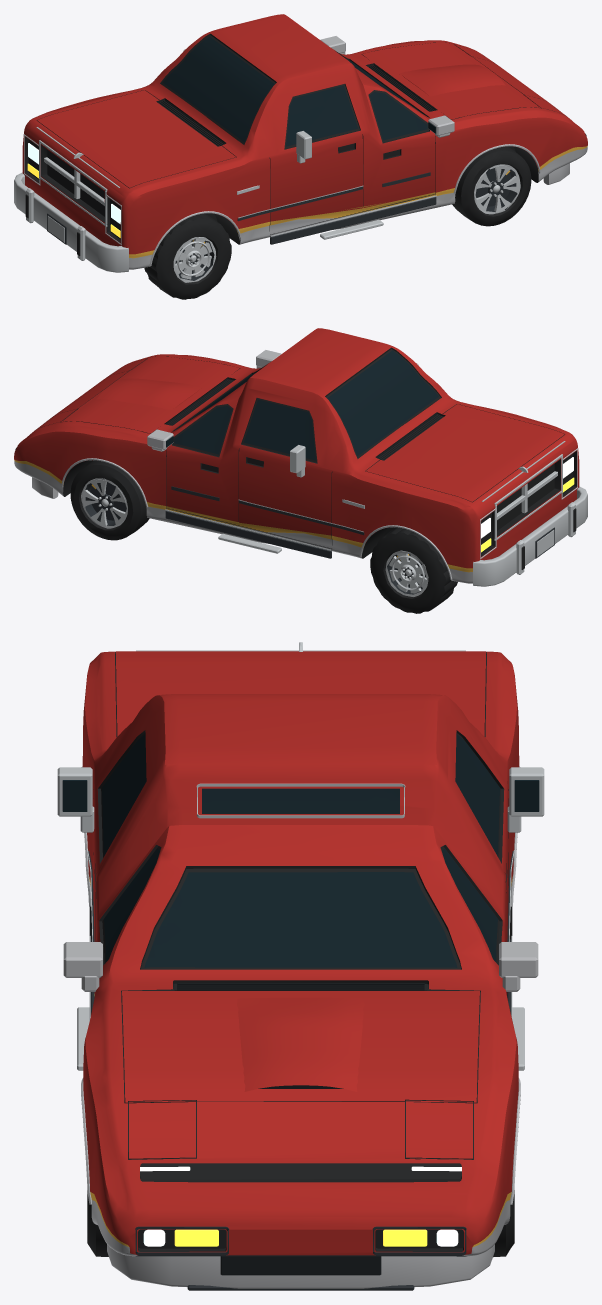
File: ramjet_blueprint_LOD2.glb
3 renders of one model, top to bottom at view 1: azimuth 30°, elevation 25°; view 2: azimuth 150°, elevation 25°; view 3: azimuth 270°, elevation 25°, orthographic. The views are drawn at different scales.
Visible parts, largest first — view 1: Body_RamjetShell.001, Detail_BrushedMetal, Glass_TruckWindshield.001, Wheel_Truck_Tire_-1.001, Wheel_Coupe_Tire_-1.001, Glass_TruckSide_R.001, Detail_Gunmetal, Detail_Paint, Detail_Secondary, Glass_CoupeSide_R.001, Detail_Grille, Wheel_Coupe_Hub_-1.001 (+3 smaller); view 2: Body_RamjetShell.001, Detail_BrushedMetal, Glass_TruckWindshield.001, Wheel_Truck_Tire_+1.001, Wheel_Coupe_Tire_+1.001, Glass_TruckSide_L.001, Detail_Gunmetal, Detail_Paint, Detail_Secondary, Glass_CoupeSide_L.001, Detail_Grille, Wheel_Coupe_Hub_+1.001 (+3 smaller); view 3: Body_RamjetShell.001, Glass_CoupeWindshield.001, Detail_Secondary, Detail_Paint, Detail_BrushedMetal, Detail_Grille, Glass_CabRear.001, Detail_Gunmetal, Glass_TruckSide_L.001, Glass_TruckSide_R.001, Glass_CoupeSide_R.001, Glass_CoupeSide_L.001 (+3 smaller).
Part boxes in pixels (x1,y1,x2,y2): Body_RamjetShell.001: (22,14,587,269); Detail_BrushedMetal: (14,49,436,272); Glass_TruckWindshield.001: (163,36,274,142); Wheel_Truck_Tire_-1.001: (144,213,231,299); Wheel_Coupe_Tire_-1.001: (452,146,531,226); Glass_TruckSide_R.001: (286,85,357,146); Detail_Gunmetal: (47,133,586,244); Detail_Paint: (399,64,505,96); Detail_Secondary: (149,36,569,265); Glass_CoupeSide_R.001: (369,92,427,140); Detail_Grille: (159,65,435,146); Wheel_Coupe_Hub_-1.001: (475,168,511,206); Body_RamjetShell.001: (14,328,579,583); Detail_BrushedMetal: (165,363,587,586); Glass_TruckWindshield.001: (327,350,438,456); Wheel_Truck_Tire_+1.001: (370,527,457,613); Wheel_Coupe_Tire_+1.001: (70,460,149,540); Glass_TruckSide_L.001: (244,399,315,460); Detail_Gunmetal: (15,447,554,558); Detail_Paint: (96,378,202,409); Detail_Secondary: (32,350,452,579); Glass_CoupeSide_L.001: (174,406,231,454); Detail_Grille: (166,379,442,460); Wheel_Coupe_Hub_+1.001: (90,482,126,520); Body_RamjetShell.001: (82,651,519,1256); Glass_CoupeWindshield.001: (144,872,457,967); Detail_Secondary: (63,766,538,1288); Detail_Paint: (237,997,364,1091); Detail_BrushedMetal: (57,642,544,1070); Detail_Grille: (177,983,424,1275); Glass_CabRear.001: (202,788,399,813); Detail_Gunmetal: (88,851,513,1290); Glass_TruckSide_L.001: (455,734,499,856); Glass_TruckSide_R.001: (102,734,146,856); Glass_CoupeSide_R.001: (103,849,160,962); Glass_CoupeSide_L.001: (441,849,498,962).
Bounding box in the file's own units: 5.52 × 1.95 × 2.36.
